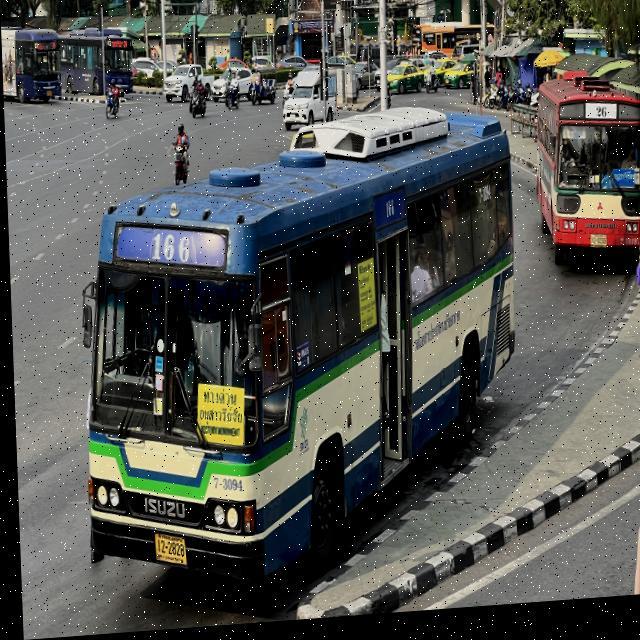BMTA-bus: (78, 115, 514, 591), (532, 82, 640, 284), (416, 27, 502, 65)
Bus Line Number: (144, 221, 197, 277), (584, 112, 617, 131)
Bus Side Number: (204, 473, 242, 500), (616, 242, 639, 258)
Destination Sign: (192, 384, 243, 456), (611, 177, 635, 199)
TSB-Bus: (61, 24, 133, 109), (8, 18, 64, 108)
